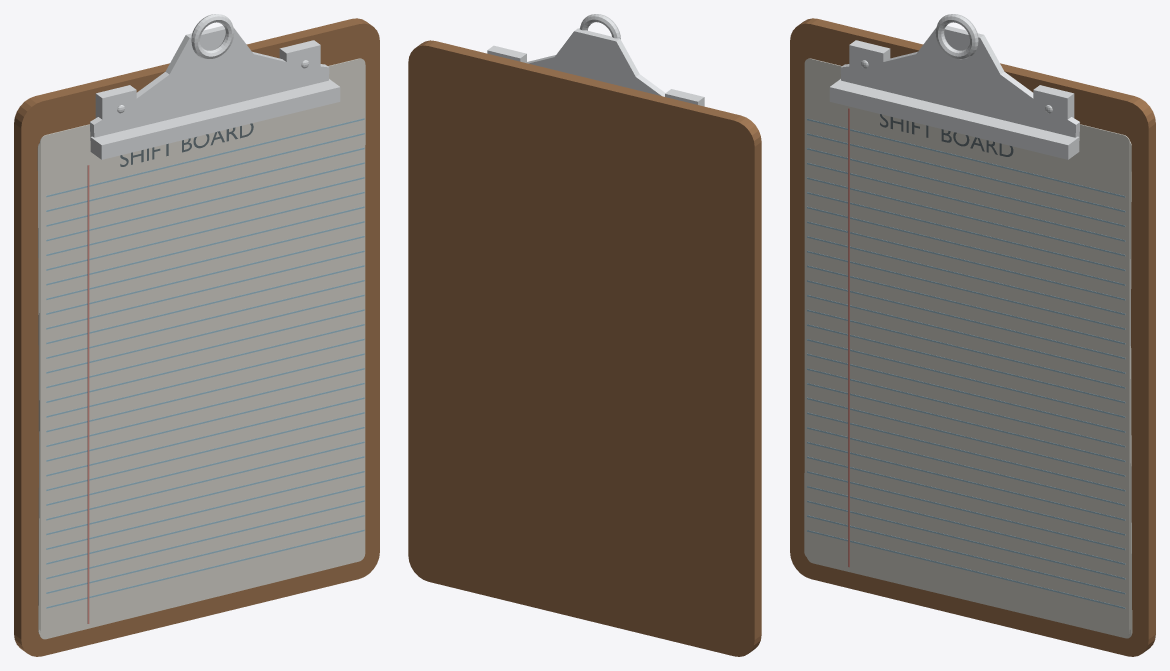
Rendered from shift_clipboard.glb.
The picture shows the model from 3 angles, left to right: view 1: azimuth 30°, elevation 25°; view 2: azimuth 150°, elevation 25°; view 3: azimuth 330°, elevation 25°; orthographic projection. The views are drawn at different scales.
Parts seen in each view (by area): view 1: Paper sheet 2, Rounded brown backing, Spring clip arched plate, Rolled clamping lip, Paper sheet 0, Paper sheet 1, Red left margin, Folded mounting tab.001, Hanging ring, Folded mounting tab, Blue ruled line 02, Blue ruled line 05 (+28 smaller); view 2: Rounded brown backing, Spring clip arched plate; view 3: Paper sheet 2, Rounded brown backing, Spring clip arched plate, Rolled clamping lip, Paper sheet 0, Paper sheet 1, Folded mounting tab, Folded mounting tab.001, Hanging ring, Red left margin, Blue ruled line 00, Blue ruled line 06 (+28 smaller).
Part boxes in pixels (x1,y1,x2,y2): Paper sheet 2: (39, 58, 365, 634); Rounded brown backing: (14, 18, 379, 656); Spring clip arched plate: (90, 26, 329, 140); Rolled clamping lip: (90, 79, 340, 159); Paper sheet 0: (37, 143, 365, 639); Paper sheet 1: (38, 65, 365, 636); Red left margin: (87, 165, 89, 623); Folded mounting tab.001: (279, 40, 320, 82); Hanging ring: (191, 14, 234, 59); Folded mounting tab: (95, 85, 136, 128); Blue ruled line 02: (46, 147, 364, 226); Blue ruled line 05: (46, 191, 364, 270); Rounded brown backing: (408, 40, 761, 656); Spring clip arched plate: (526, 28, 665, 96); Paper sheet 2: (804, 58, 1130, 634); Rounded brown backing: (790, 18, 1155, 656); Spring clip arched plate: (840, 26, 1079, 140); Rolled clamping lip: (829, 79, 1079, 159); Paper sheet 0: (807, 348, 1132, 638); Paper sheet 1: (804, 141, 1131, 637); Folded mounting tab: (849, 40, 890, 84); Folded mounting tab.001: (1033, 85, 1074, 128); Hanging ring: (935, 14, 978, 59); Red left margin: (848, 108, 849, 567); Blue ruled line 00: (807, 118, 1125, 197); Blue ruled line 06: (807, 206, 1125, 285).
Bounding box in the file's own units: 0.46 × 0.75 × 0.0615.
